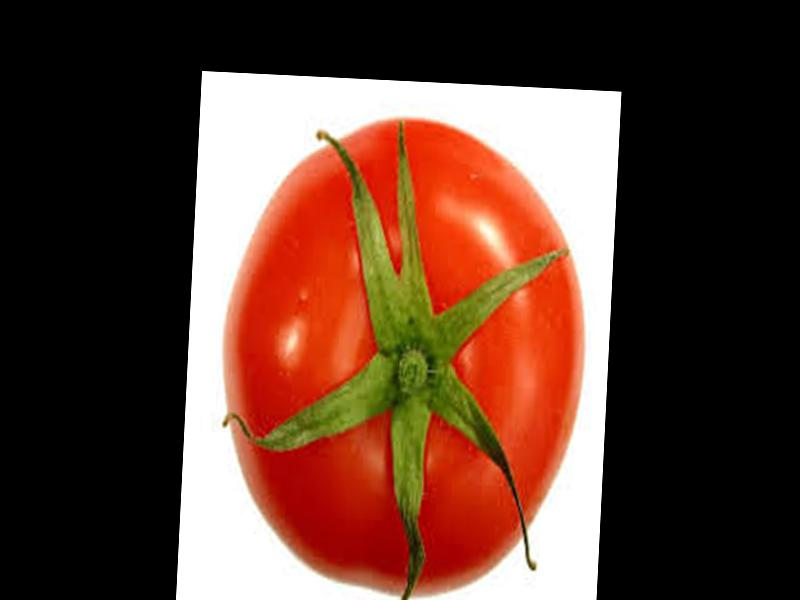Tomato: (213, 107, 595, 600)
